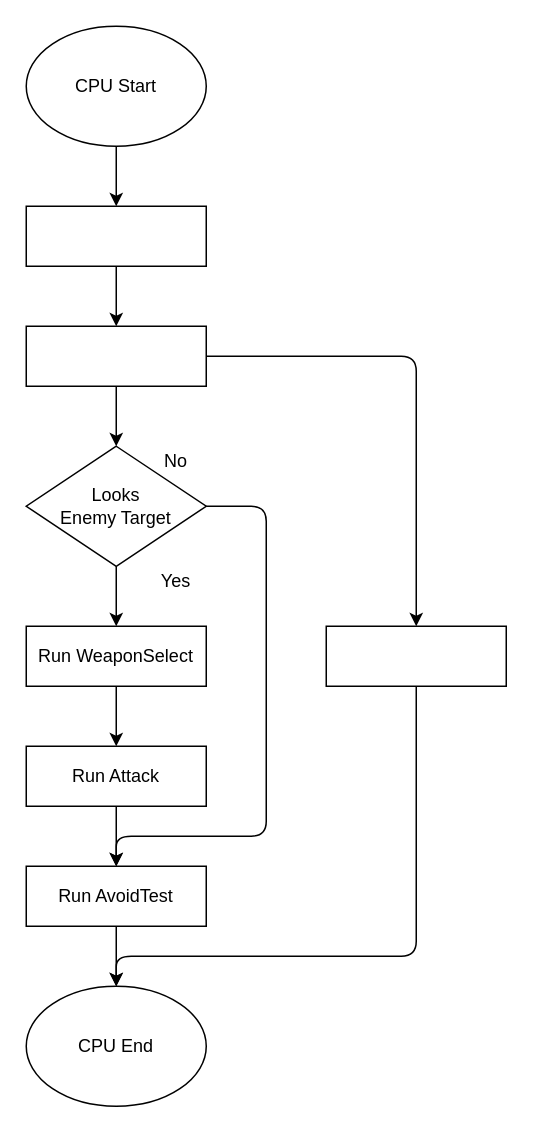
The diagram is 533 pixels wide and 1133 high, and some of its shapes have lost their labels. Here are the shapes that lost their labels. From the top down, the centre of each, then its label:
the point at 115,235: Run TargetSelect
the point at 115,355: Run MovePosition
the point at 415,655: MoveFunction
